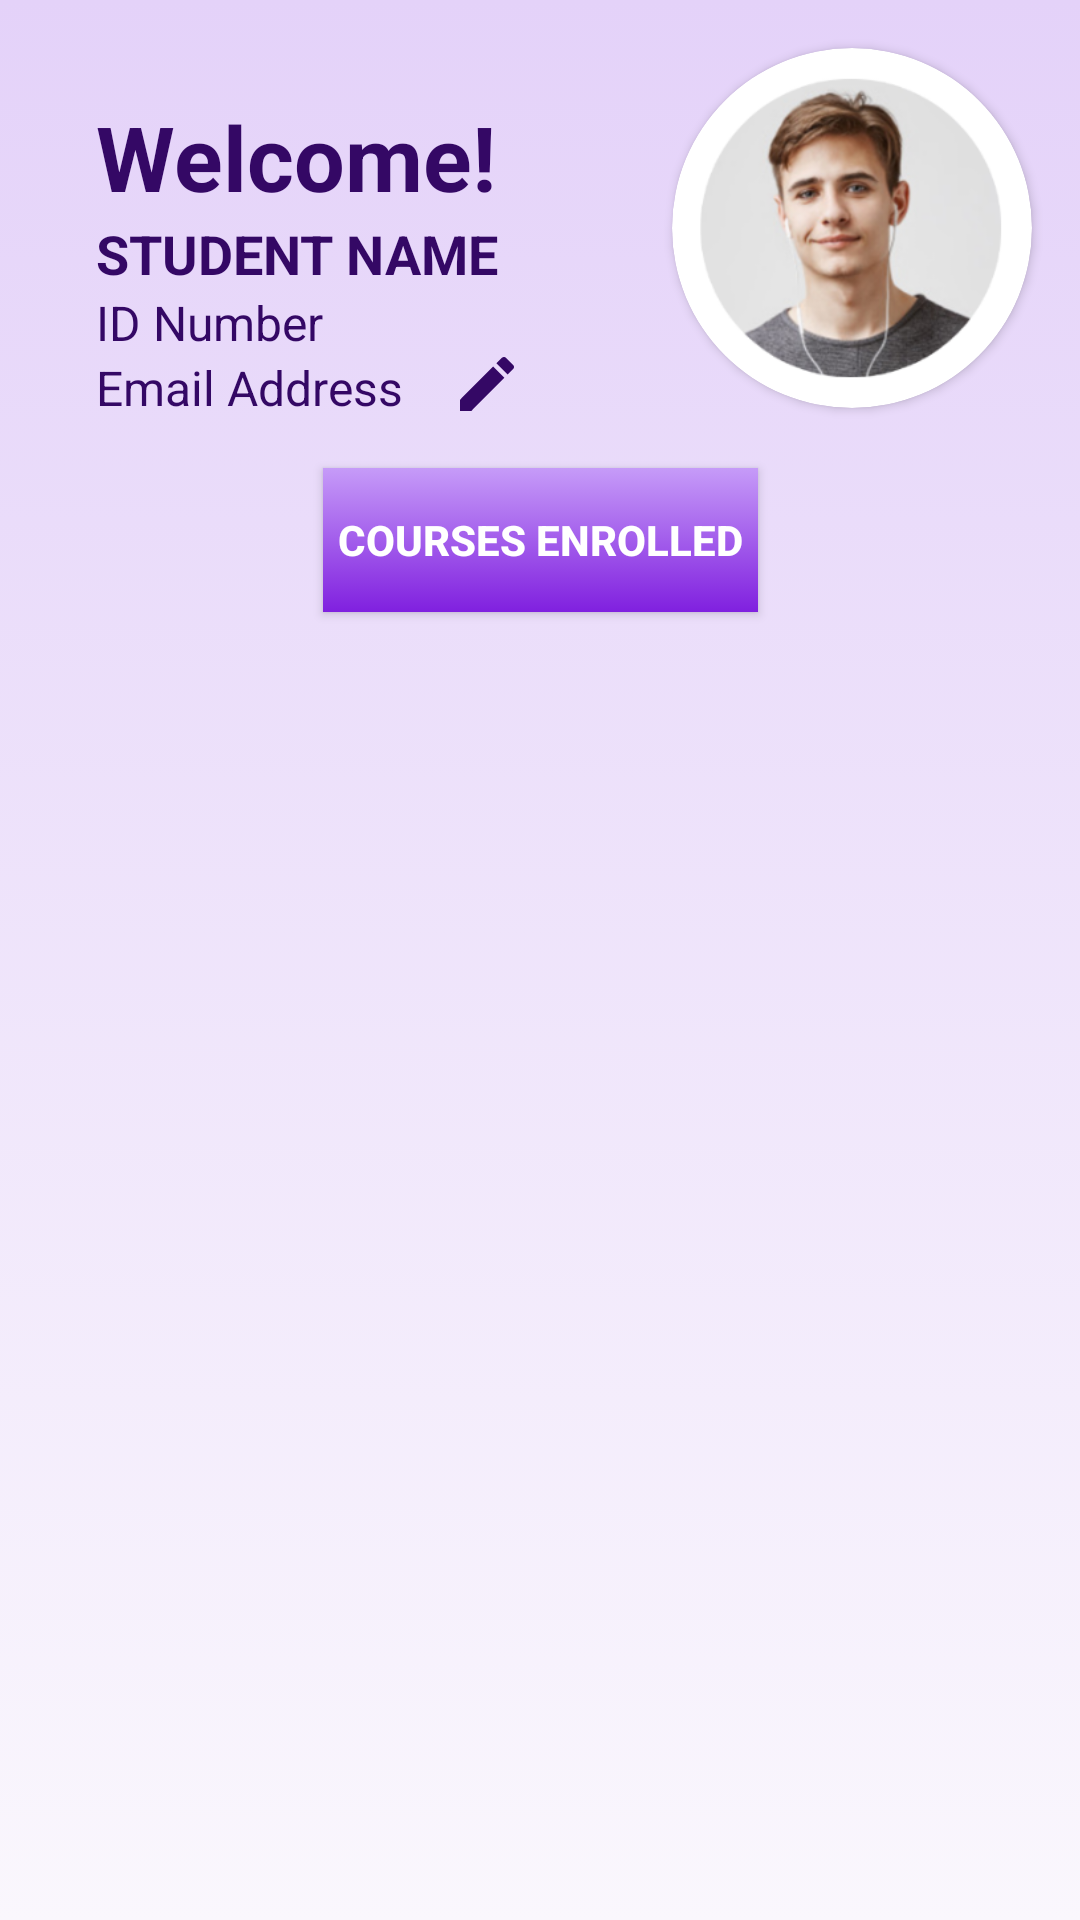

Where to tap for icons on this 1080×1920 app screen, as [x,y]:
edit: [487,384]
profile: [852,228]
